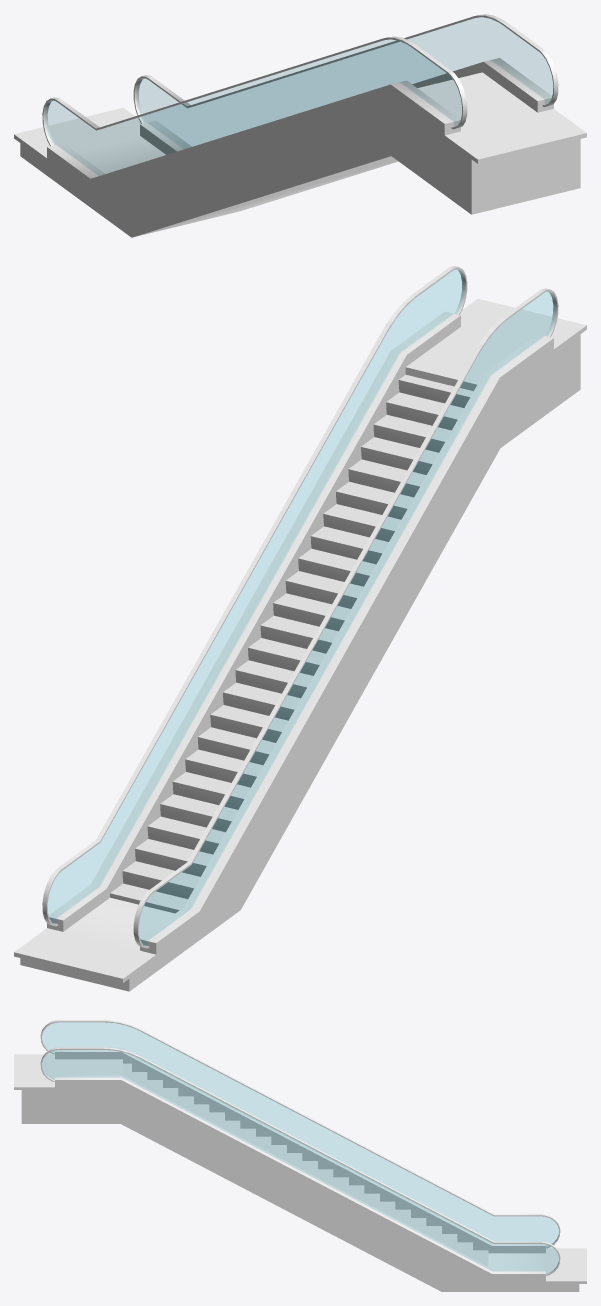
The model's file is stairs1.glb.
3 renders of one model, top to bottom at view 1: azimuth 30°, elevation 25°; view 2: azimuth 150°, elevation 25°; view 3: azimuth 270°, elevation 25°, orthographic. The views are drawn at different scales.
Parts seen in each view (by area): view 1: Object_12, Object_2; view 2: Object_12, Object_36, Object_2; view 3: Object_12, Object_2, Object_36.
Boxes of the visible parts, <box> form: Object_12: <box>14,14,586,237</box>; Object_2: <box>46,17,552,175</box>; Object_12: <box>14,266,586,991</box>; Object_36: <box>110,374,473,913</box>; Object_2: <box>48,270,555,945</box>; Object_12: <box>14,1020,586,1291</box>; Object_2: <box>42,1023,558,1273</box>; Object_36: <box>123,1063,488,1266</box>.
Bounding box in the file's own units: 6.56 × 22.42 × 48.3.
